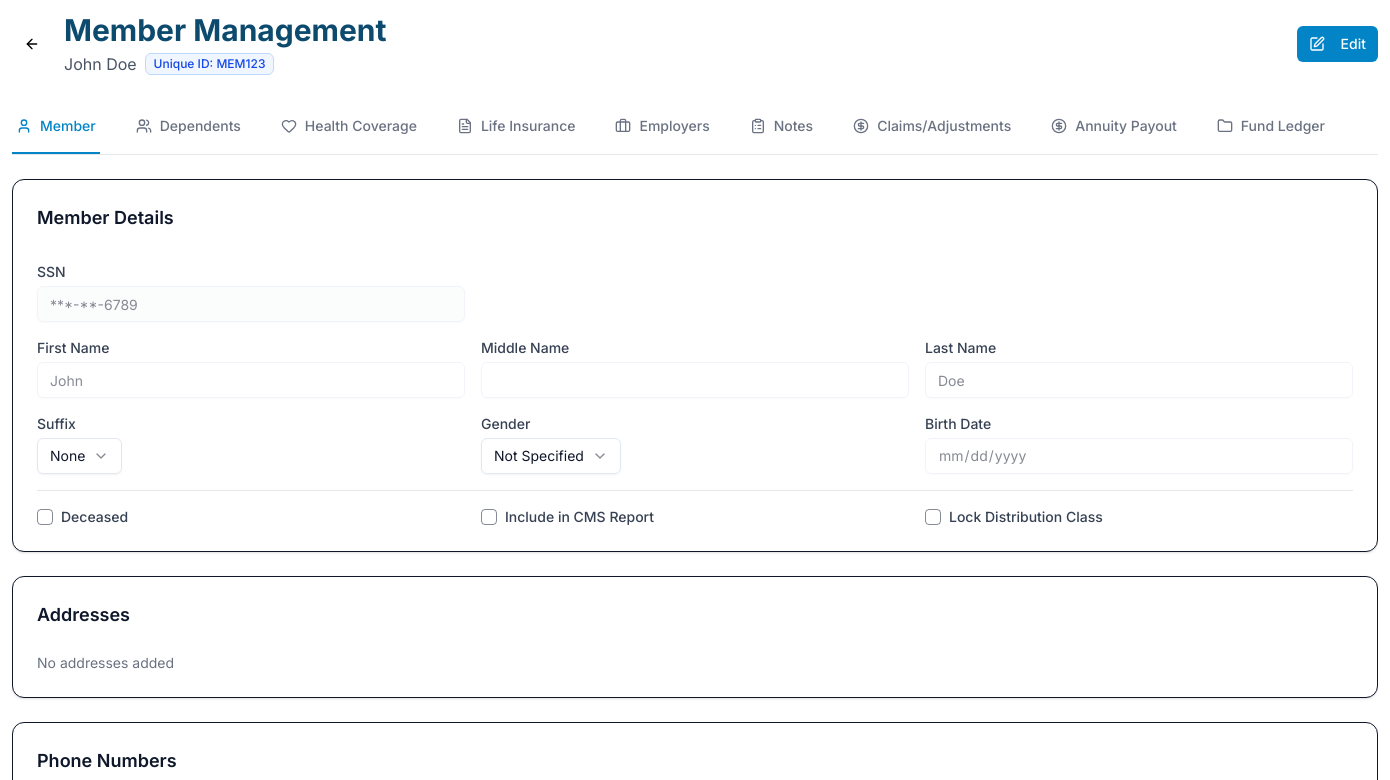
Test case: Claims/Adjustments Tab › should render Claims/Adjustments tab with both forms
The width and height of the screenshot is (1390, 780).
Expected: the text "John Doe" is shown, [64,52,137,76]
Note: Click on Claims/Adjustments tab
Click the button "Claims/Adjustments" at (932, 127), box [849,100,1015,154]
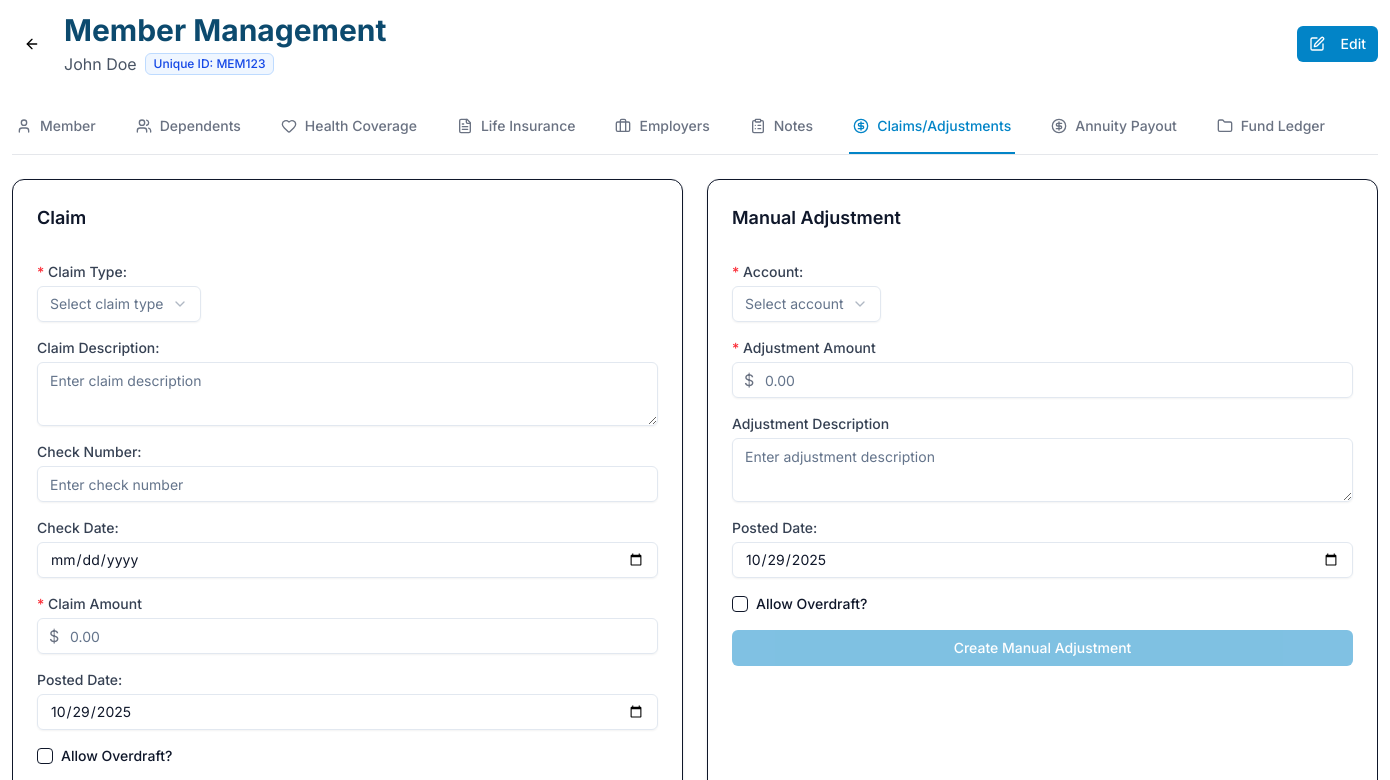
Expected: the text "Claim" is shown, [37,207,86,228]
Expected: the text "Manual Adjustment" is shown, [732,207,901,228]
Expected: the text "Claim Type:" is shown, [44,263,127,280]
Note: Check that claim type select renders string values, not objects
Click the dropdown "Select claim type" at (119, 304), box [37,286,200,322]
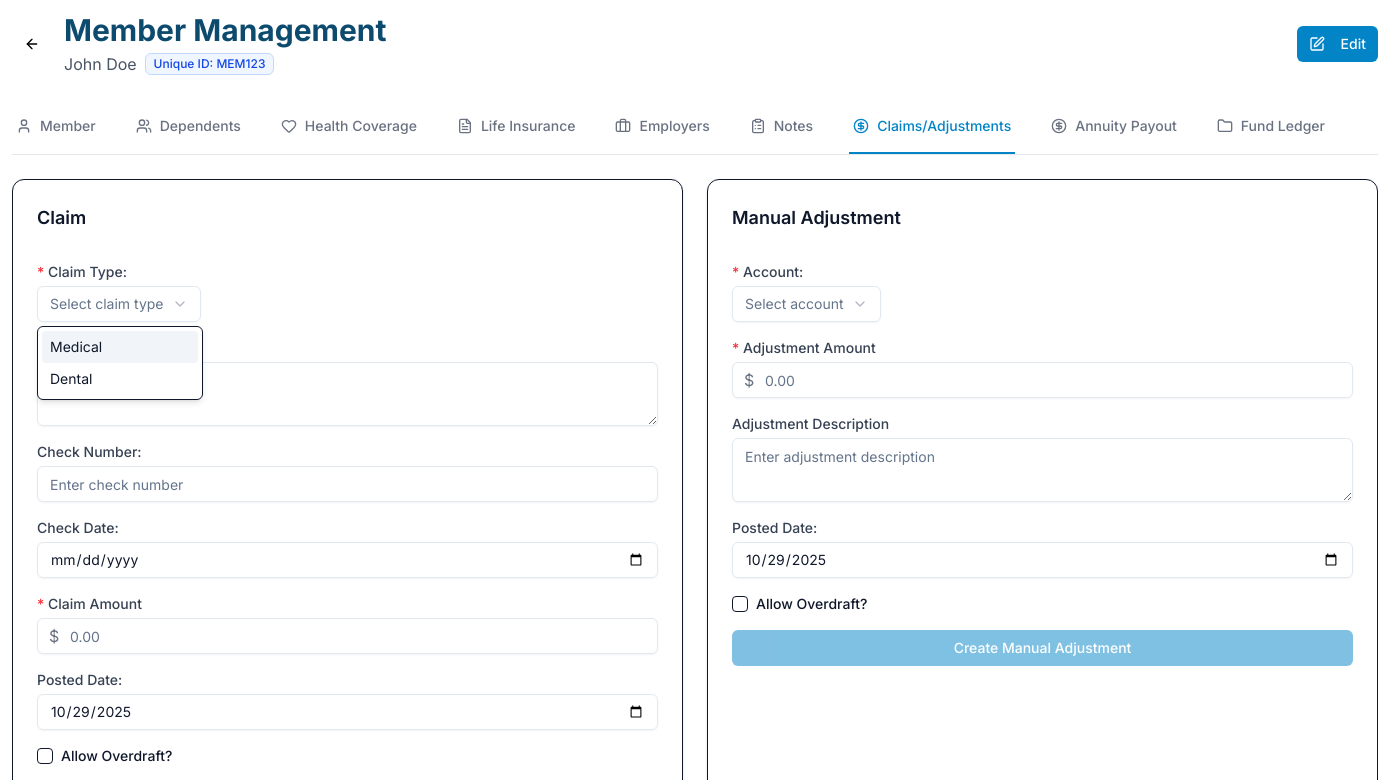
Expected: the text "Medical" is shown, [50,337,102,357]
